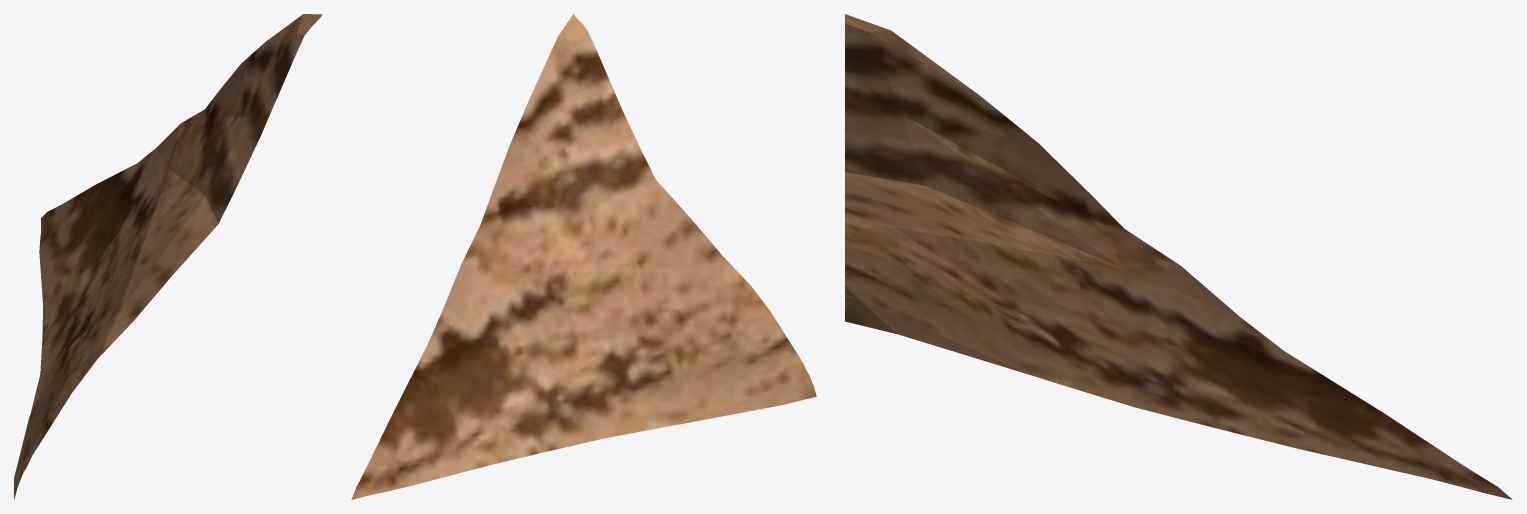
The picture shows the model from 3 angles, left to right: view 1: azimuth 30°, elevation 25°; view 2: azimuth 150°, elevation 25°; view 3: azimuth 270°, elevation 25°; orthographic projection. The views are drawn at different scales.
Size of the model in its own units: 0.127 by 0.1613 by 0.2009.
Materials: 1 (1 with a texture image).
